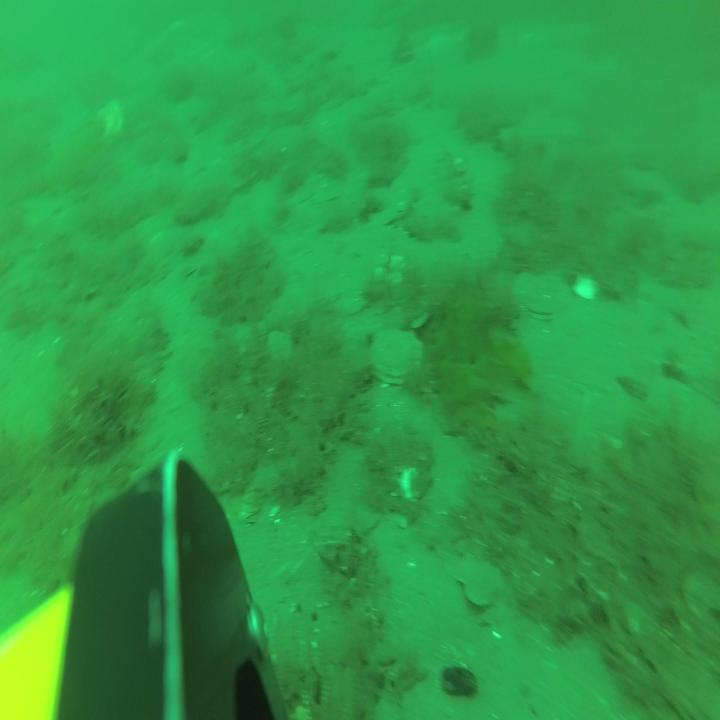scallop: (369, 326, 424, 387), (465, 560, 505, 609), (98, 96, 124, 145), (527, 295, 554, 322)
